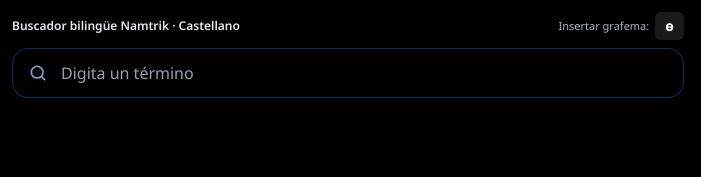
Scenario: SearchBox › muestra estado de carga mientras busca términos
The width and height of the screenshot is (701, 177).
Type "piurek" into the dropdown with placeholder "Digita un término".
click(348, 73); type("piurek")  # box [12,48,684,98]
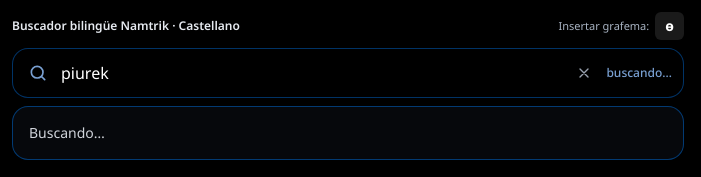
Check: the text "Buscando…" is shown, box [29,123,105,142]
Check: the text "buscando…" is shown, box [606,65,672,81]
